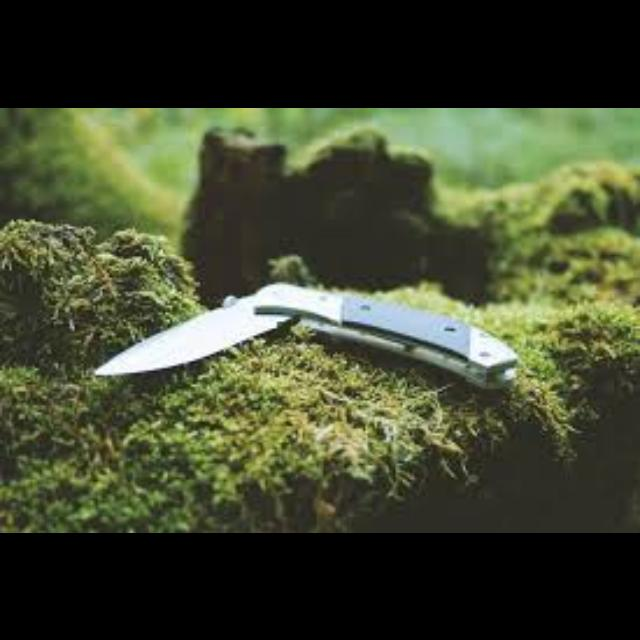Knife: (94, 280, 518, 388)
